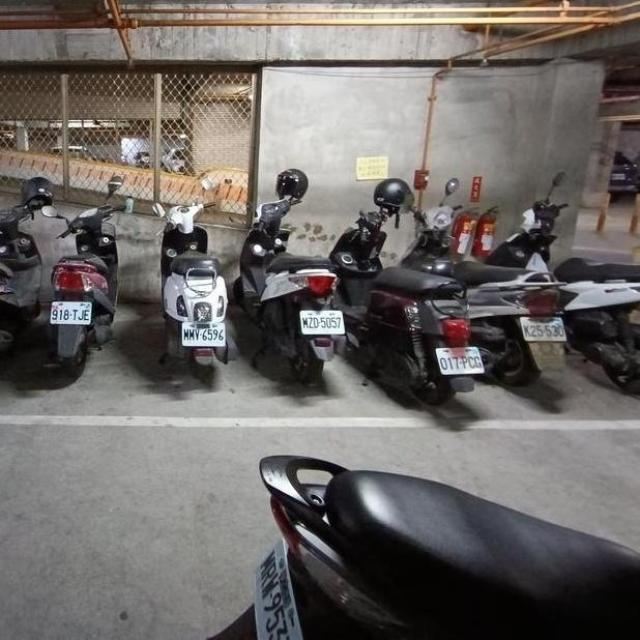W: (432, 339, 485, 380), (295, 302, 346, 340), (516, 310, 568, 346), (179, 318, 227, 349), (49, 295, 93, 327)
